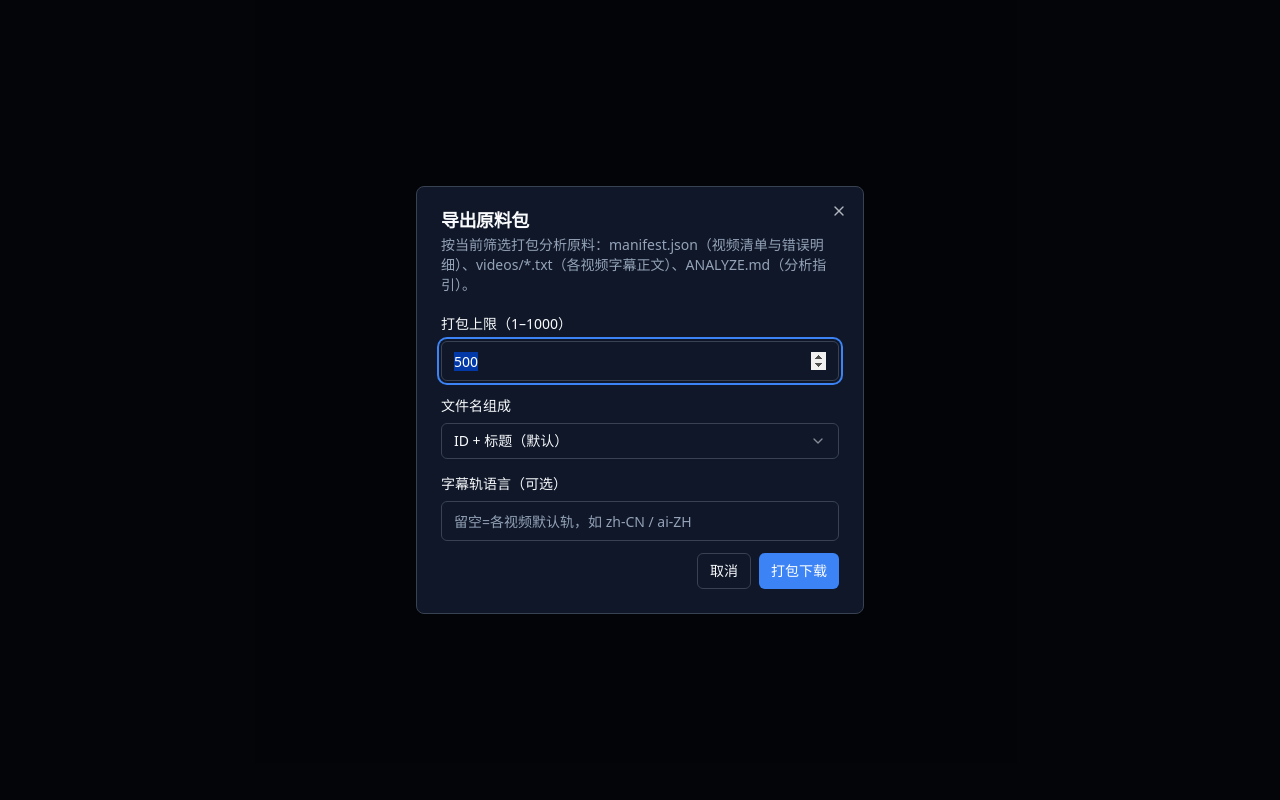
Test case: 确认下载：URL 组装 filter+limit+name_order+track；成功展示文件名 + 匹配/导出/错误三数；E>0 黄色警告
This screenshot has width=1280, height=800.
Replace the text in the number field labelled "打包上限（1–1000）" with "100": (640, 361) left=441, top=341, right=839, bottom=381
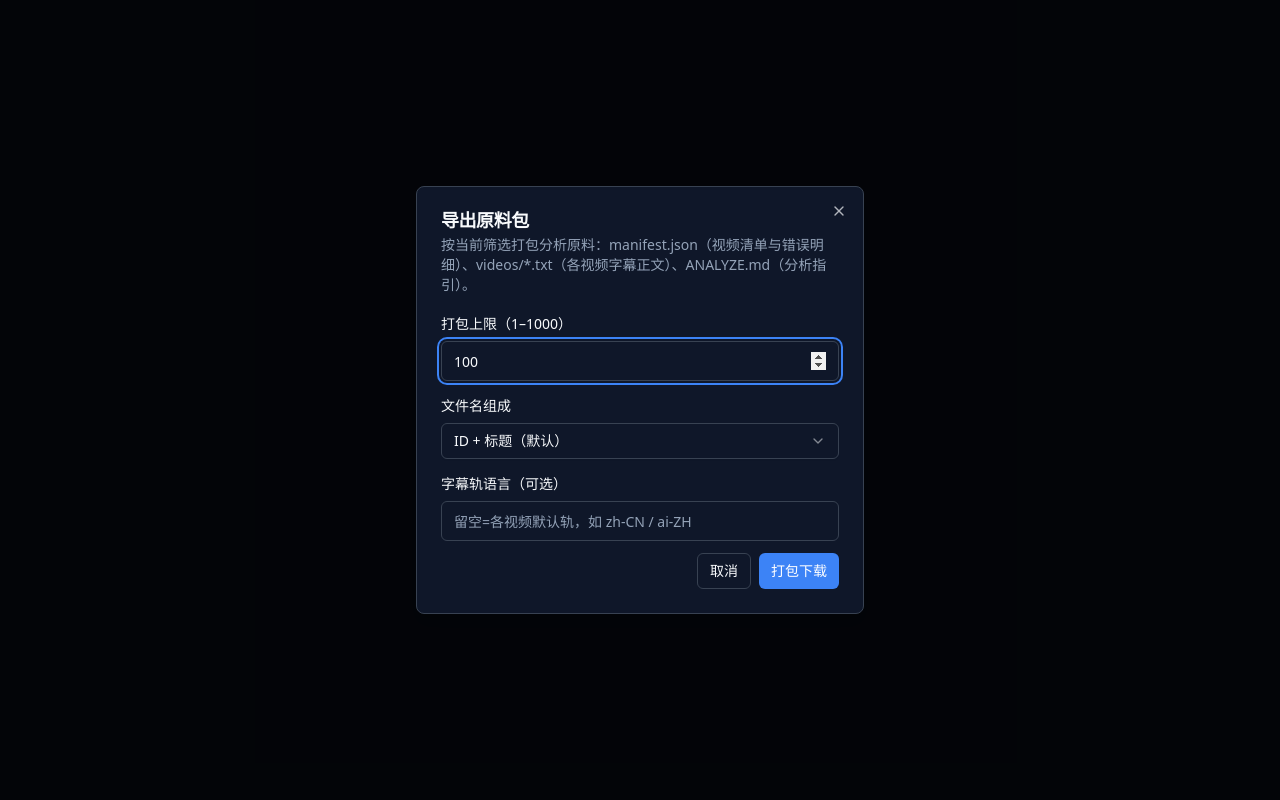
In the field with placeholder "留空=各视频默认轨，如 zh-CN / ai-ZH": (640, 521) left=441, top=501, right=839, bottom=541, type "zh-CN"
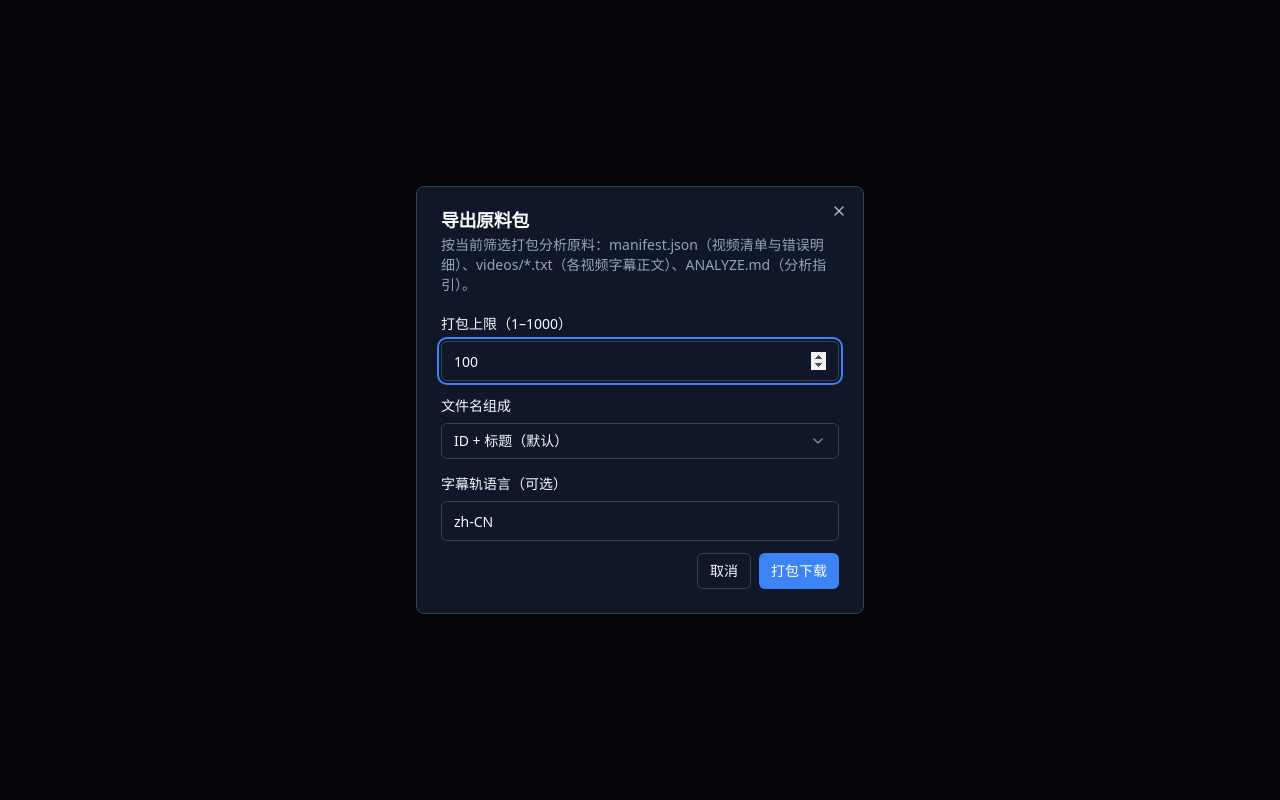
Click the button "打包下载": click(799, 571) left=759, top=553, right=839, bottom=589
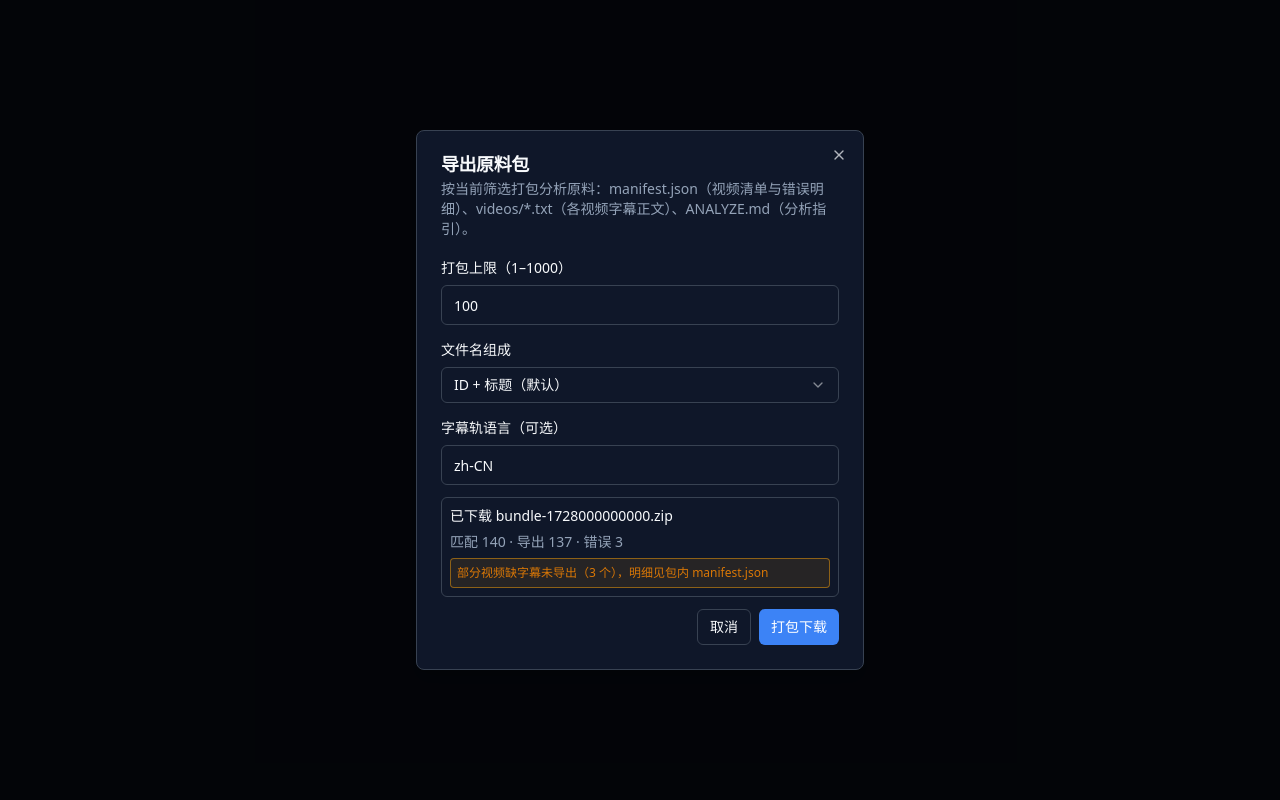
Now the text "bundle-1728000000000.zip" is shown, box left=496, top=506, right=673, bottom=525
Now the text "匹配 140 · 导出 137 · 错误 3" is shown, box left=450, top=532, right=623, bottom=551
Now the text "部分视频缺字幕未导出（3 个），明细见包内 manifest.json" is shown, box left=450, top=558, right=830, bottom=588
